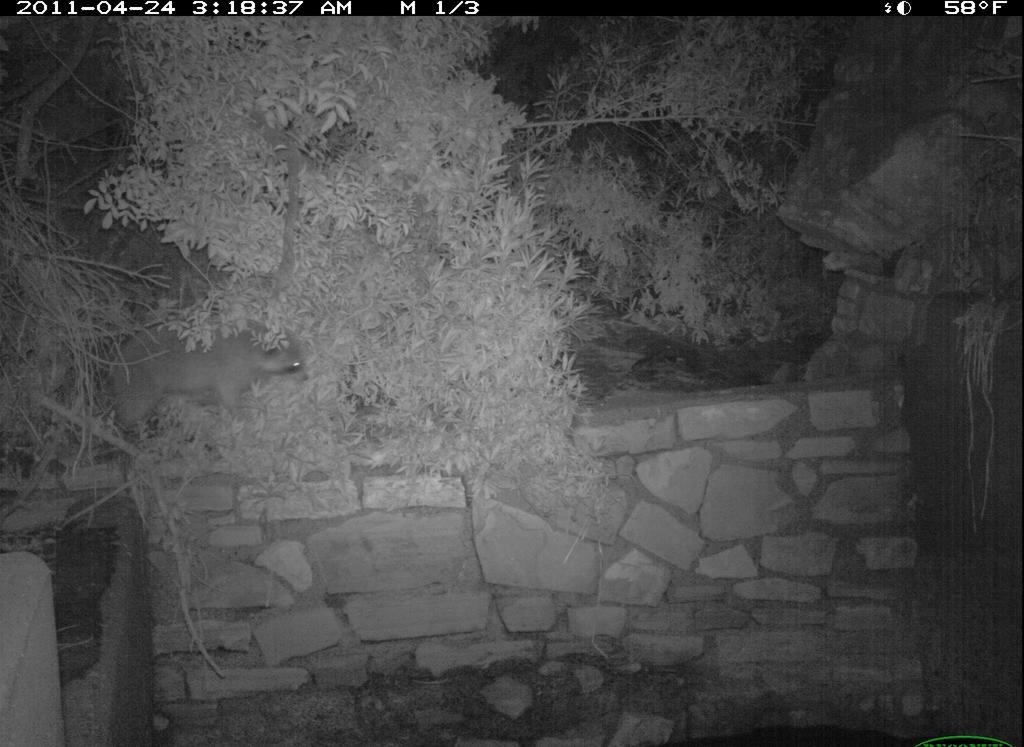raccoon: (93, 312, 319, 452)
